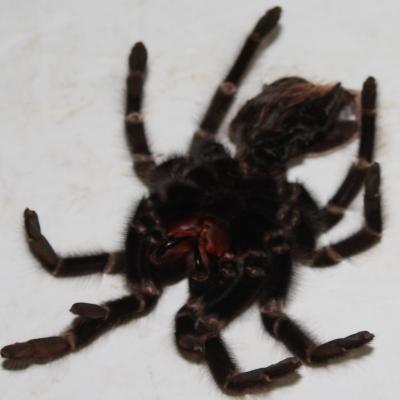natural_science_collection: (1, 7, 384, 398)
